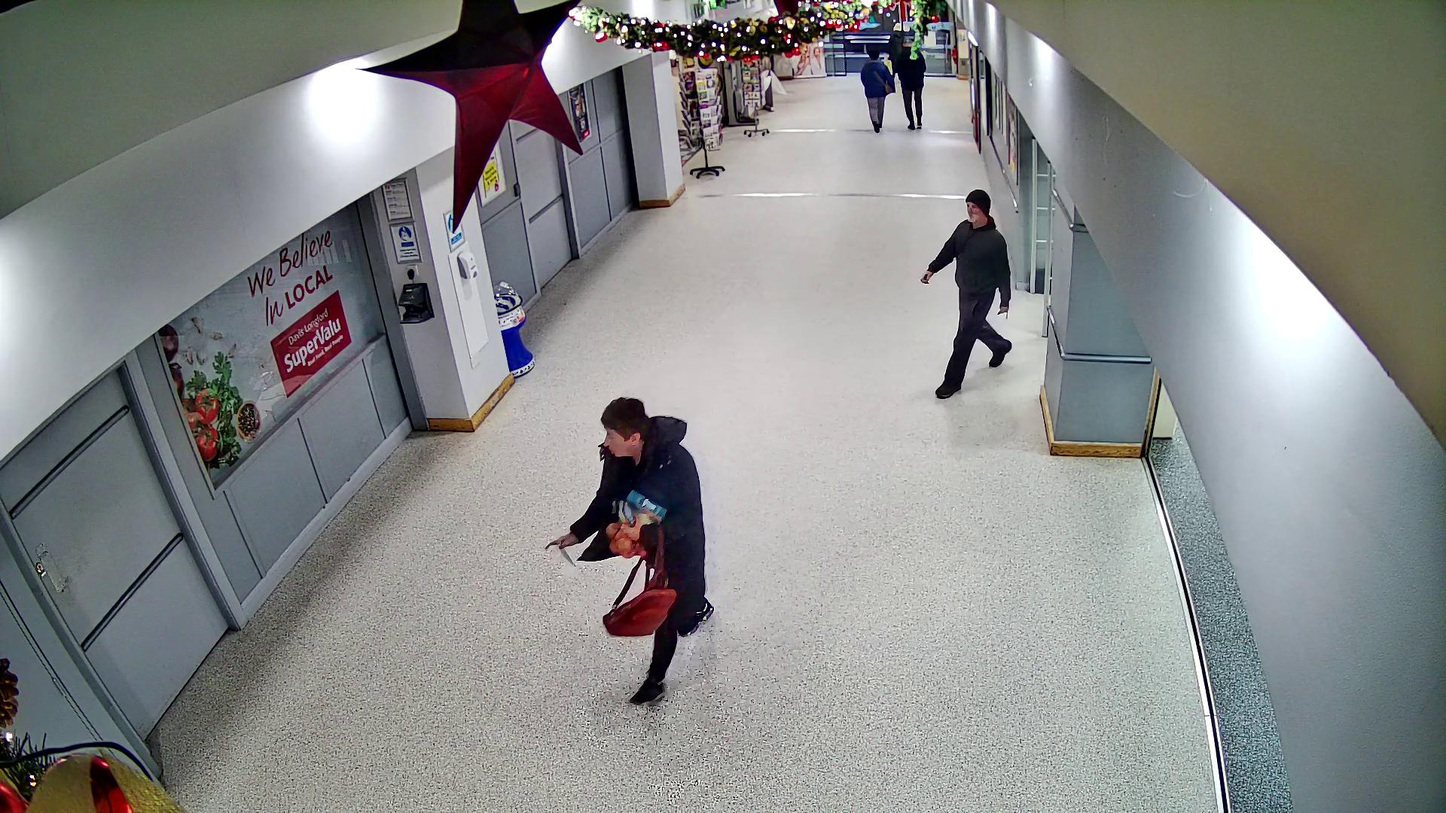backpack-or-handbag: (601, 574, 676, 637)
carrying-item: (604, 490, 667, 559)
person: (545, 398, 713, 705)
person-with-backpack-handbag-and-carrying-item-s-: (546, 398, 714, 705)
